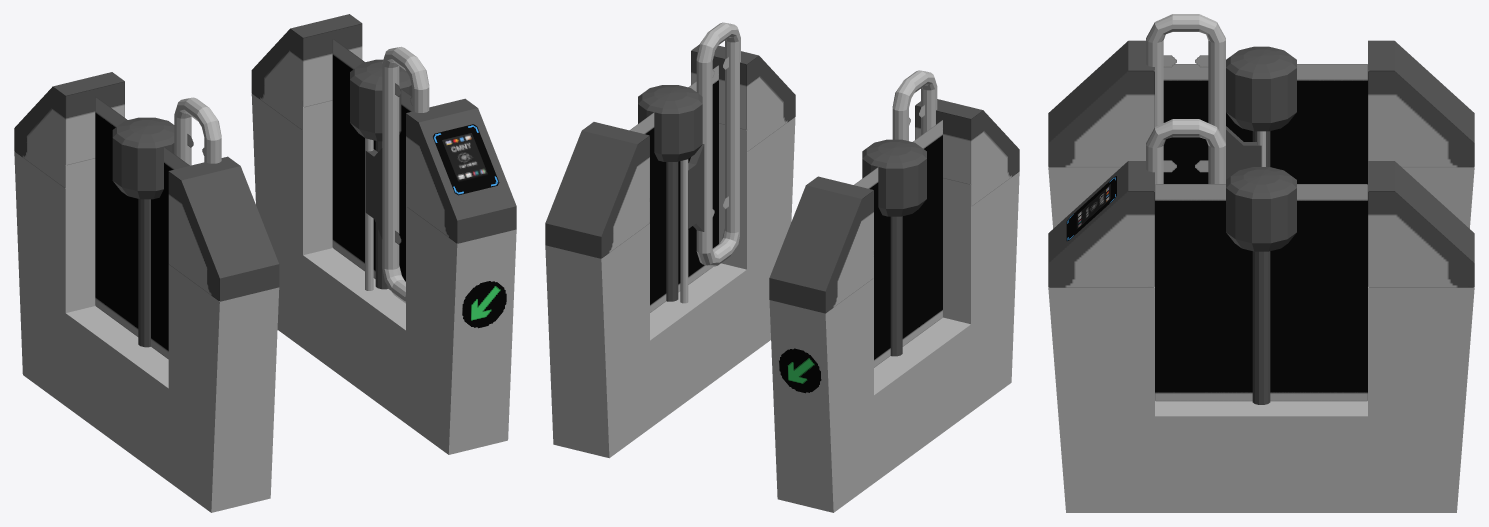
File: nyc_subway_fare_gate_3_twoway_open_exit.obj
3 renders of one model, left to right at view 1: azimuth 30°, elevation 25°; view 2: azimuth 150°, elevation 25°; view 3: azimuth 270°, elevation 25°, orthographic. The views are drawn at different scales.
Parts seen in each view (by area): view 1: left, right, doorRight, cube, doorLeft; view 2: left, right, doorRight, doorLeft, cube; view 3: right, left, doorLeft, doorRight, cube.
Part boxes in pixels (x1,y1,x2,y2): left: (14, 72, 279, 512); right: (251, 14, 516, 454); doorRight: (365, 46, 429, 303); cube: (433, 124, 506, 328); doorLeft: (174, 97, 221, 165); left: (769, 99, 1019, 512); right: (545, 45, 795, 458); doorRight: (688, 22, 740, 266); doorLeft: (892, 70, 937, 140); cube: (778, 348, 821, 393); right: (1048, 161, 1474, 512); left: (1048, 40, 1474, 228); doorLeft: (1146, 14, 1261, 179); doorRight: (1146, 119, 1225, 191); cube: (1066, 176, 1116, 240).
Size of the model in its own units: 1.25 by 1.44 by 1.5.
Materials: 1 (1 with a texture image).
